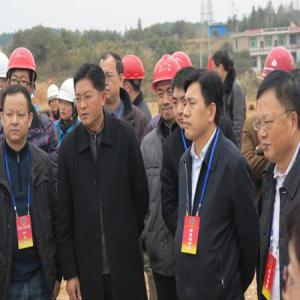none: (255, 72, 298, 165), (185, 71, 223, 139), (75, 65, 106, 130), (2, 88, 34, 147), (100, 54, 123, 104), (173, 67, 191, 128), (212, 49, 232, 82)
red: (153, 55, 179, 121), (6, 48, 38, 95), (121, 54, 145, 97)
white: (59, 80, 78, 122), (47, 85, 61, 114)
